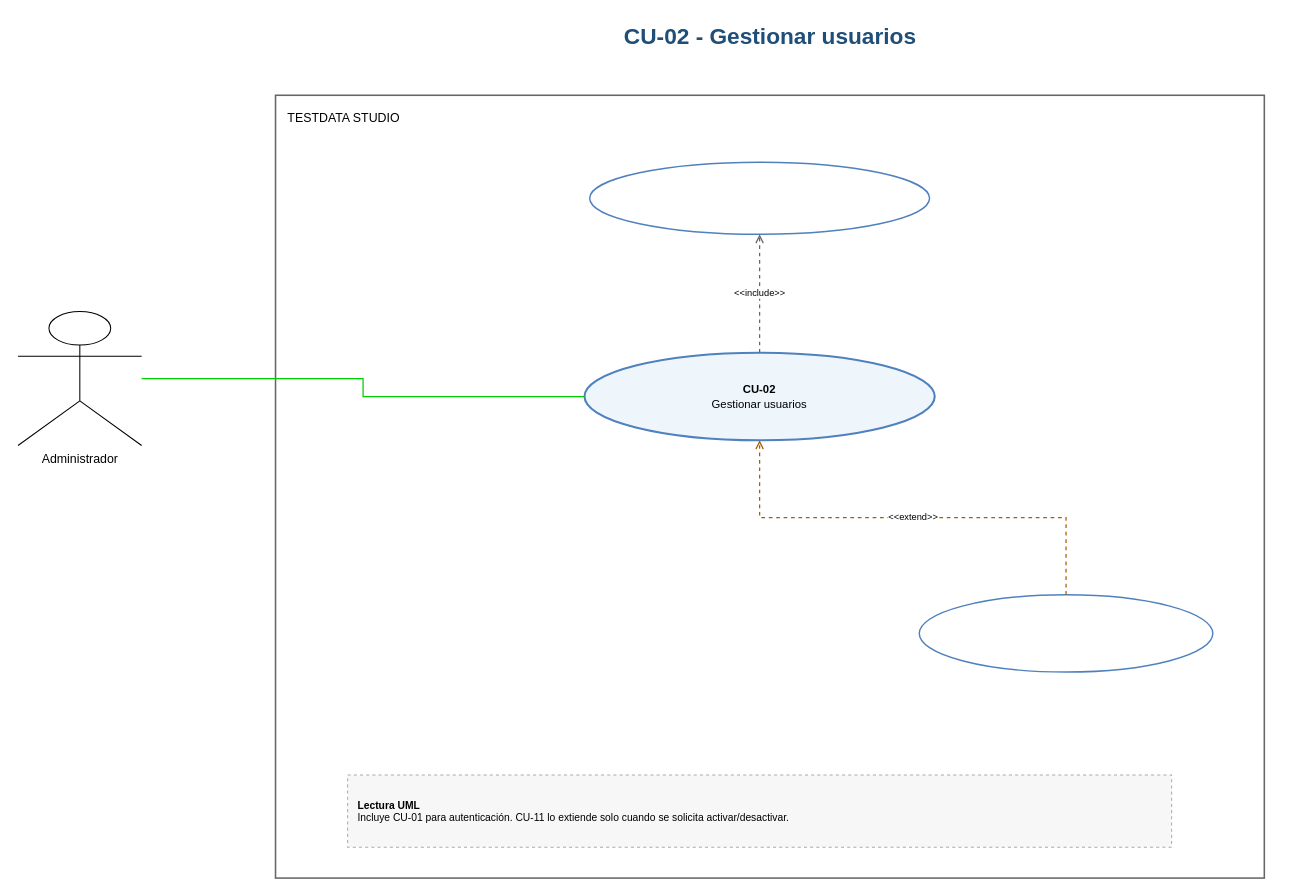
The diagram is 1303 pixels wide and 896 high, and some of its shapes have lost their labels. The shapes that lost their labels are listed below. From the top down, each one's centre as x and y in pixels, then its label:
At (759,198): "CU-01 Iniciar sesión".
At (1065,633): "CU-11 Activar / desactivar registros".
